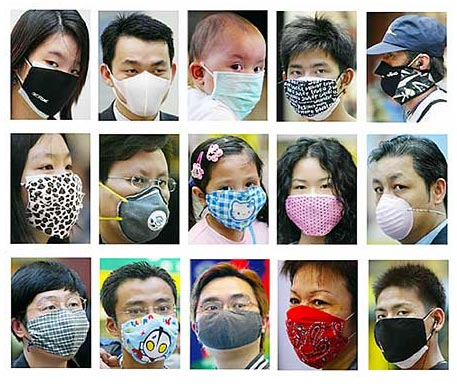face_mask: (286, 271, 348, 366), (25, 144, 84, 237), (110, 152, 170, 242), (371, 158, 431, 239), (19, 34, 80, 112), (198, 279, 260, 353), (110, 38, 171, 112), (372, 287, 429, 366), (209, 36, 266, 115), (29, 285, 88, 361), (289, 159, 342, 237), (123, 282, 175, 361), (206, 157, 260, 231), (286, 48, 340, 119), (373, 42, 412, 104)
